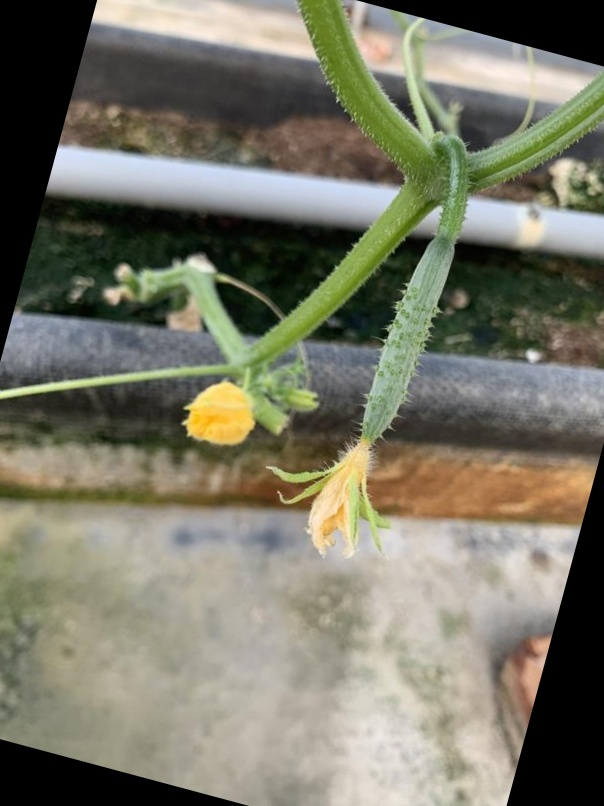bear: (267, 194, 477, 565)
